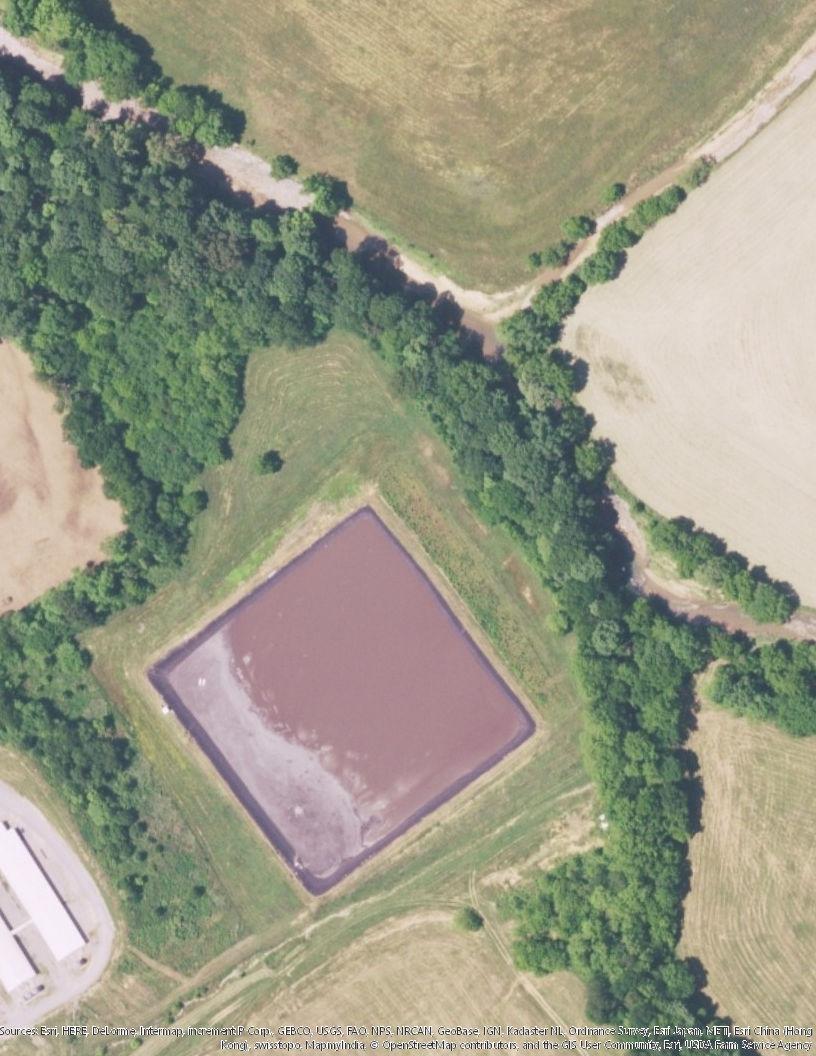cafo: (1, 822, 88, 963), (1, 906, 38, 997)
